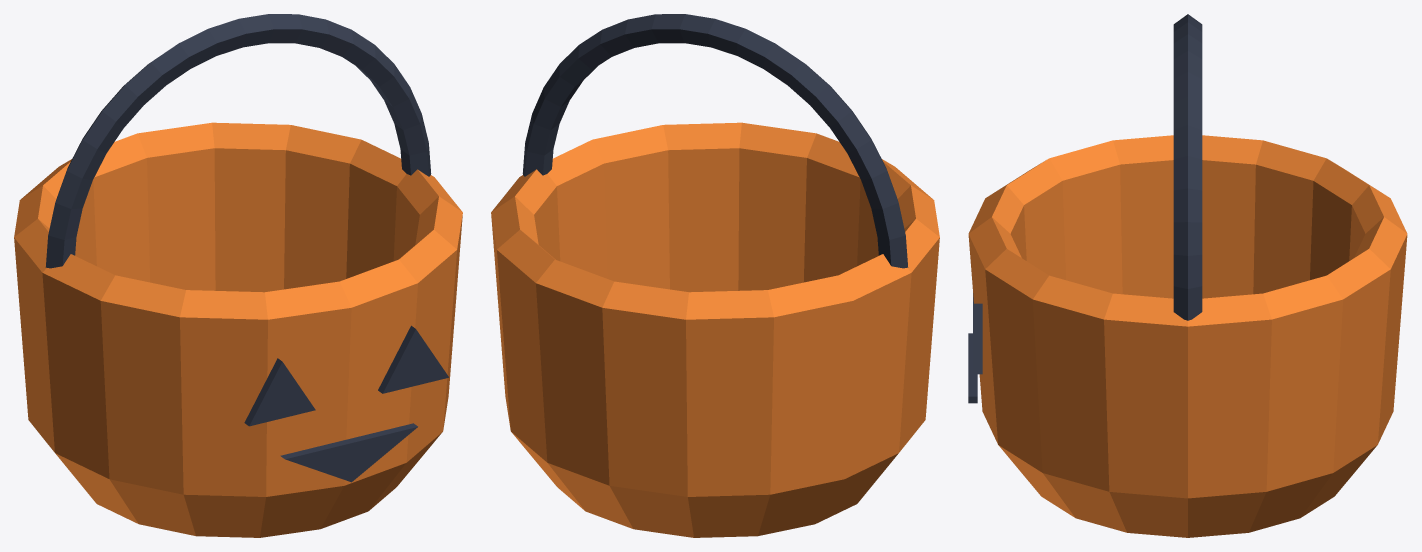
File: halloween-candy-pail.glb
3 views of the same model, side by side, from view 1: azimuth 30°, elevation 25°; view 2: azimuth 150°, elevation 25°; view 3: azimuth 270°, elevation 25° (orthographic). The views are drawn at different scales.
Parts seen in each view (by area): view 1: candy-pail; view 2: candy-pail; view 3: candy-pail.
Boxes of the visible parts, x1,y1,x2,y2 form: candy-pail: [14, 14, 462, 537]; candy-pail: [491, 14, 939, 537]; candy-pail: [968, 14, 1407, 537].
Bounding box in the file's own units: 0.47 × 0.516 × 0.47.
